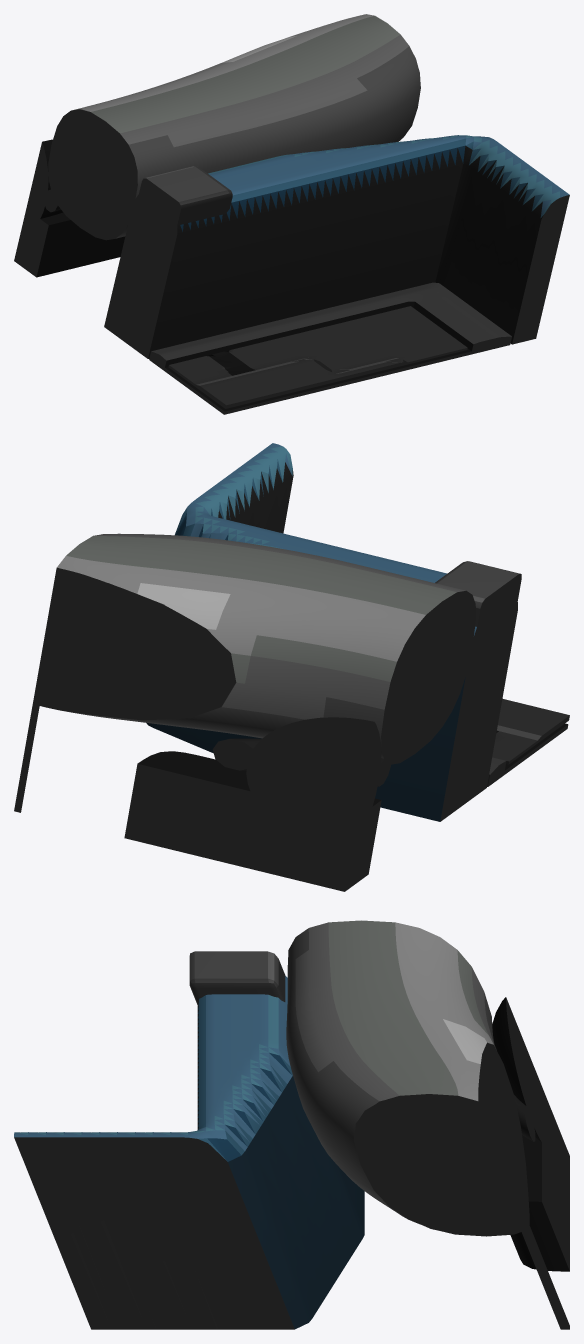
Rendered from fleet_walker_85.glb.
3 views of the same model, one above another, from view 1: azimuth 30°, elevation 25°; view 2: azimuth 150°, elevation 25°; view 3: azimuth 270°, elevation 25° (orthographic). The views are drawn at different scales.
Parts seen in each view (by area): view 1: fleet_walker_85; view 2: fleet_walker_85; view 3: fleet_walker_85.
Boxes of the visible parts, x1=… form: fleet_walker_85: x1=14, y1=14, x2=569, y2=414; fleet_walker_85: x1=14, y1=443, x2=569, y2=891; fleet_walker_85: x1=14, y1=920, x2=569, y2=1329.
Size of the model in its own units: 24 by 15.2 by 32.51.
